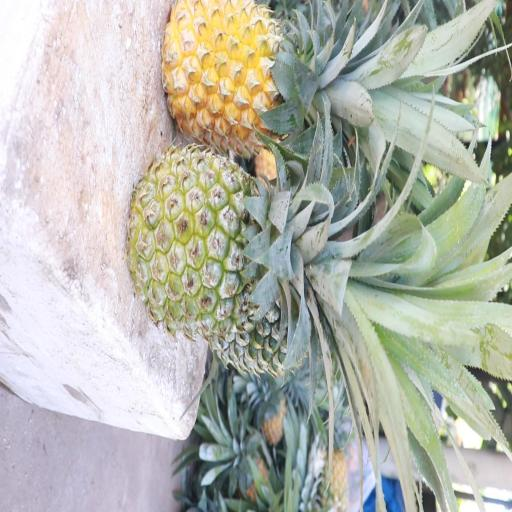------------------------------: (132, 151, 316, 334)
Pineapple - v8 v1: (166, 0, 338, 150)
